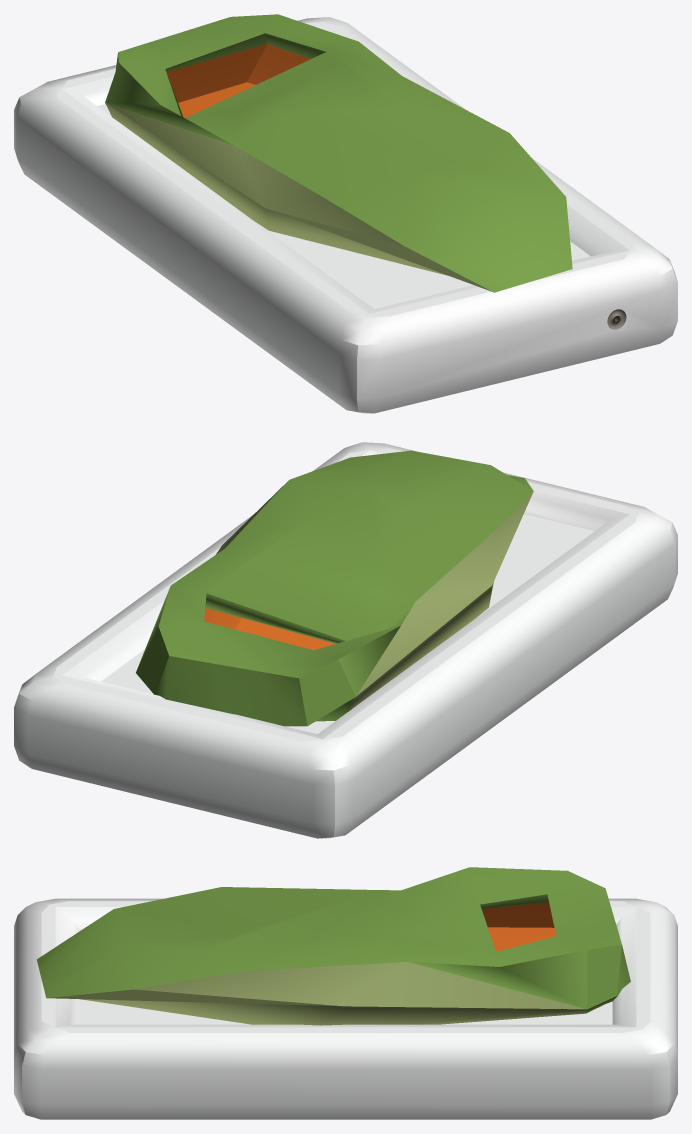
The model's file is CampingBed.fbx.
3 views of the same model, one above another, from view 1: azimuth 30°, elevation 25°; view 2: azimuth 150°, elevation 25°; view 3: azimuth 270°, elevation 25° (orthographic). The views are drawn at different scales.
Visible parts, largest first — view 1: polySurface4; view 2: polySurface4; view 3: polySurface4.
Boxes of the visible parts, <box> form: polySurface4: <box>14,14,677,413</box>; polySurface4: <box>14,442,677,838</box>; polySurface4: <box>14,867,677,1119</box>.
Bounding box in the file's own units: 76.71 × 32.87 × 139.
